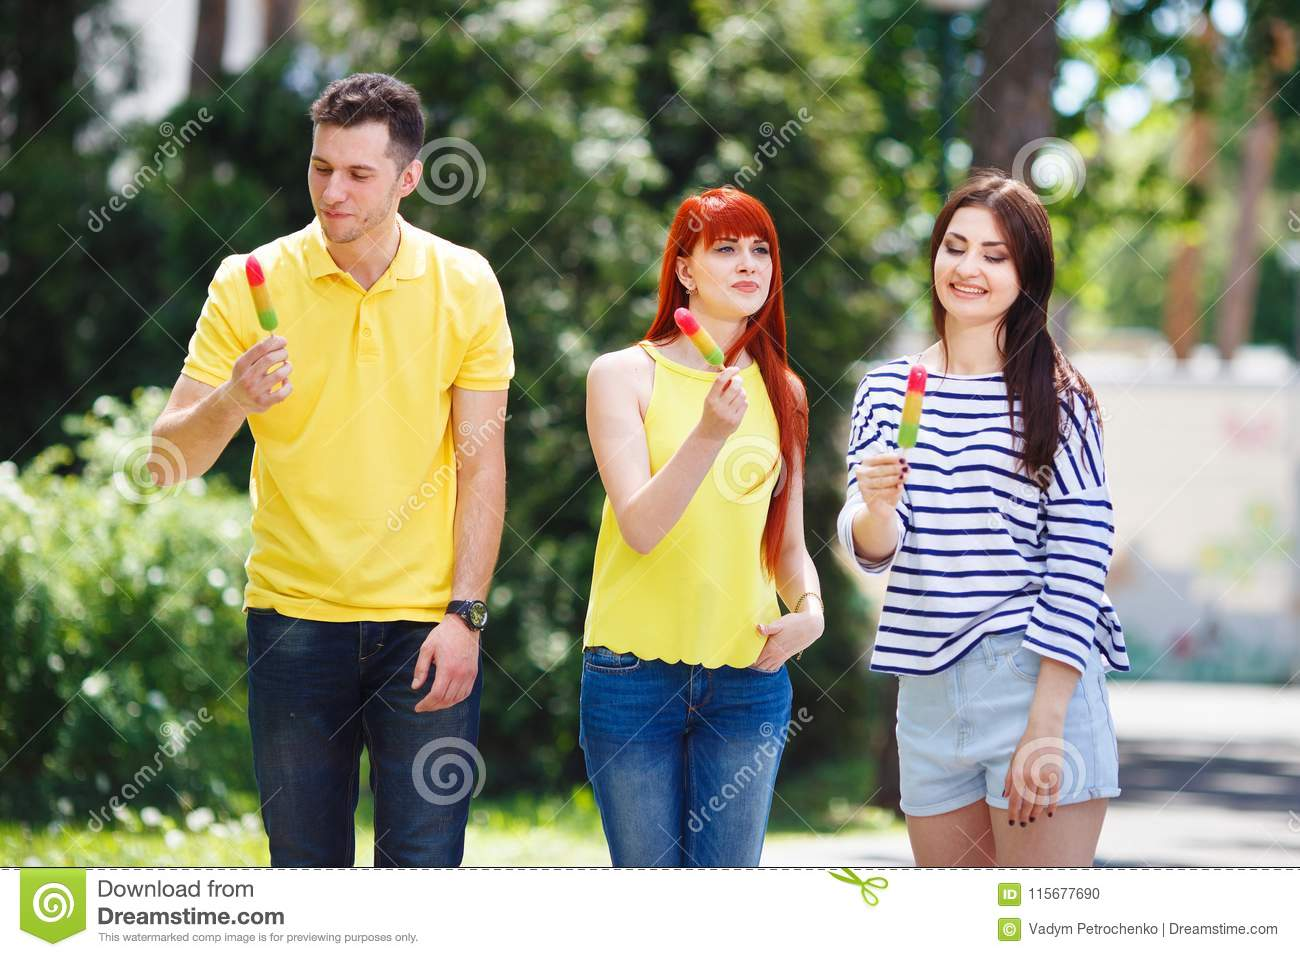bare: (305, 184, 402, 246), (923, 261, 1019, 320), (684, 263, 782, 320)
